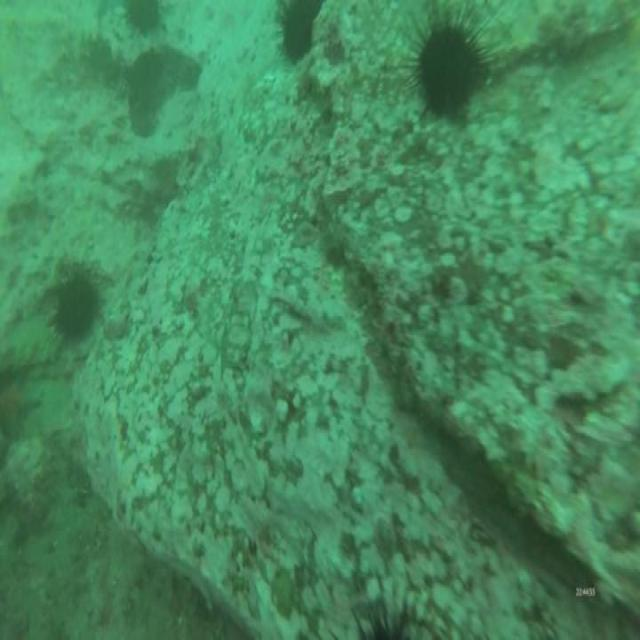echinus: (408, 0, 499, 130), (41, 258, 107, 350), (277, 0, 323, 71), (125, 0, 163, 43)
holothurian: (124, 41, 203, 147)
